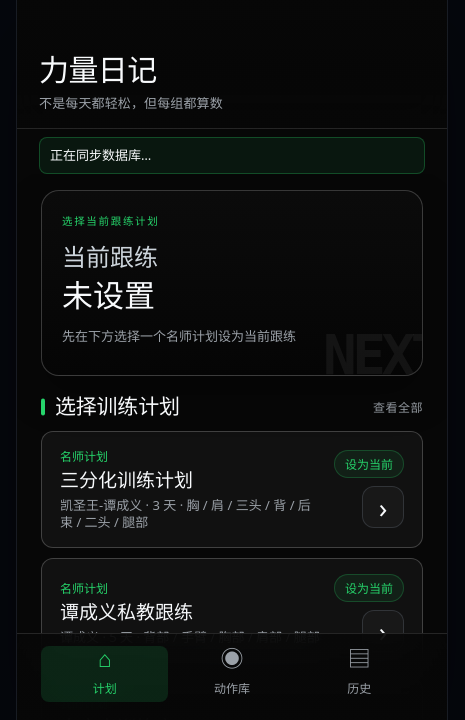
fitness PWA user flows › filters the exercise library by selected muscle group and search query
Click the button named "◉动作库": coordinates (232, 674) [168, 646, 296, 702]
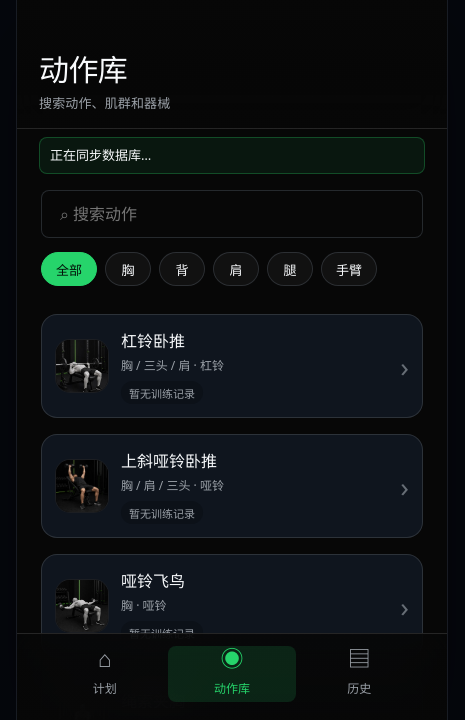
Click the button "胸": coordinates (128, 269) [105, 252, 151, 286]
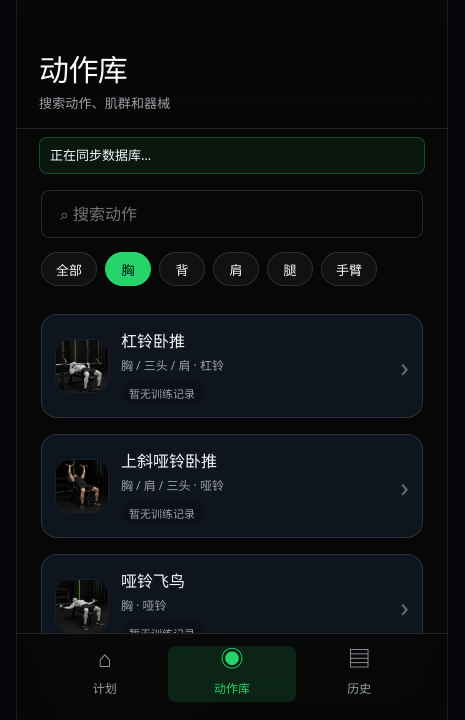
Check: the text "杠铃卧推" is shown, box [121, 330, 185, 352]
In the field with placeholder "⌕ 搜索动作": coordinates (232, 214) [41, 190, 423, 238], type "飞鸟"
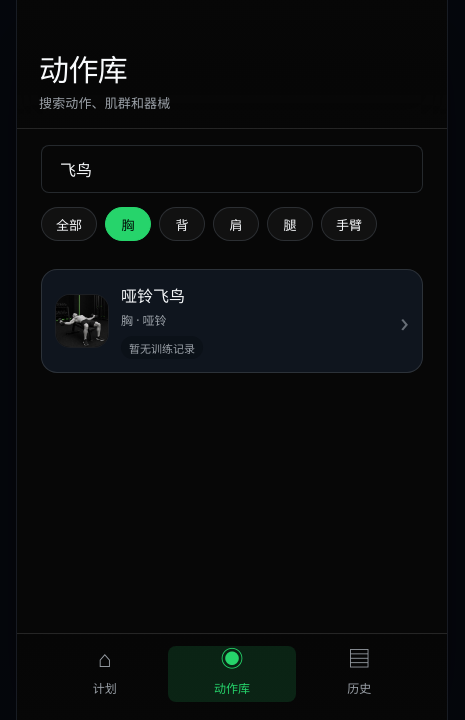
Check: the text "哑铃飞鸟" is shown, box [121, 285, 185, 307]
Check: the button "杠铃卧推" is gone
